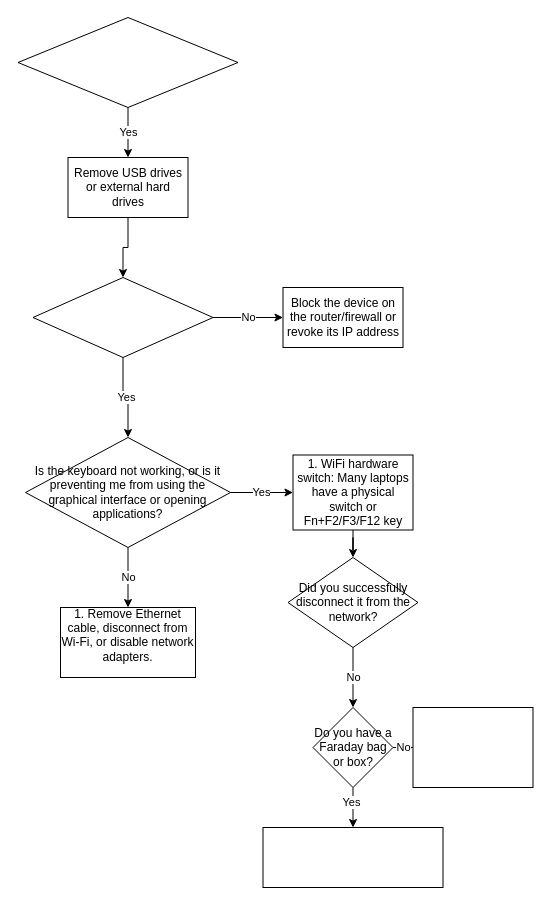
This 550x905 diagram has some shape labels left out. Each missing label, with the centre of its shape:
"Do I have physical access to the device?" goes at (122,317).
"Place the device in a Faraday bag/box to block RF and Wi-Fi signals." goes at (352,857).
"Shut down immediately, disconnect from power, remove battery" goes at (472,747).
"¿Is the equipment infected?" goes at (127,62).
